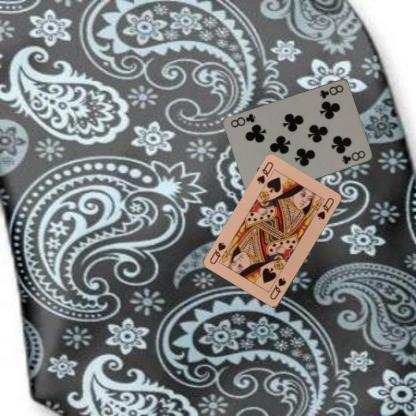8c: (317, 82, 345, 100)
Qs: (267, 276, 288, 301), (254, 160, 274, 186)
